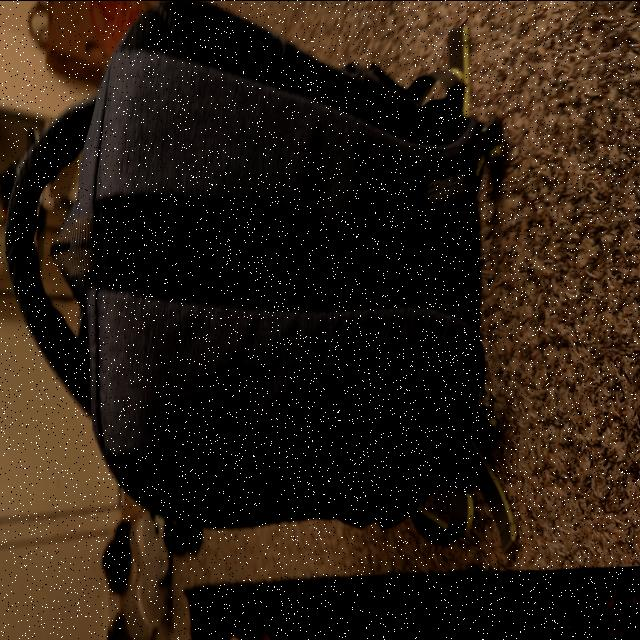bag: (8, 30, 468, 522)
